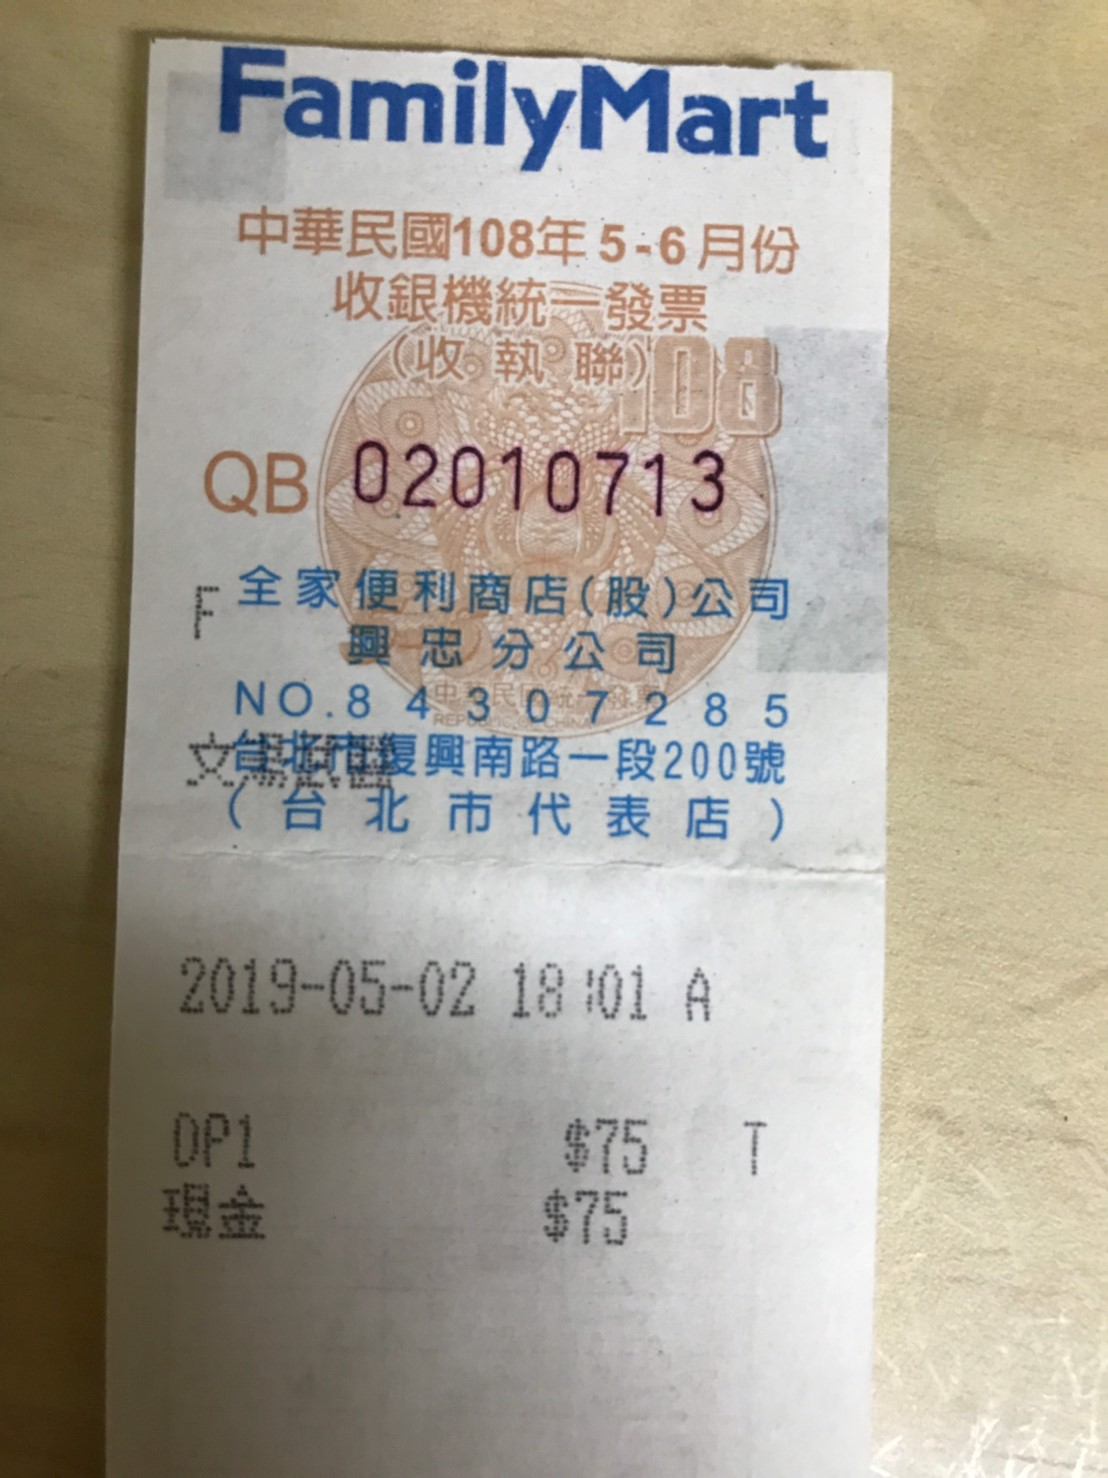Date_Old: (452, 213, 807, 277)
Number_Old: (351, 434, 731, 521)
